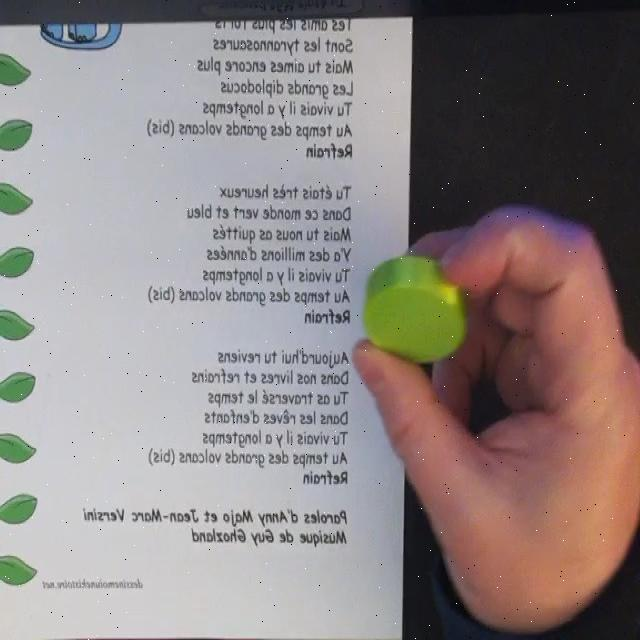round: (362, 258, 470, 366)
